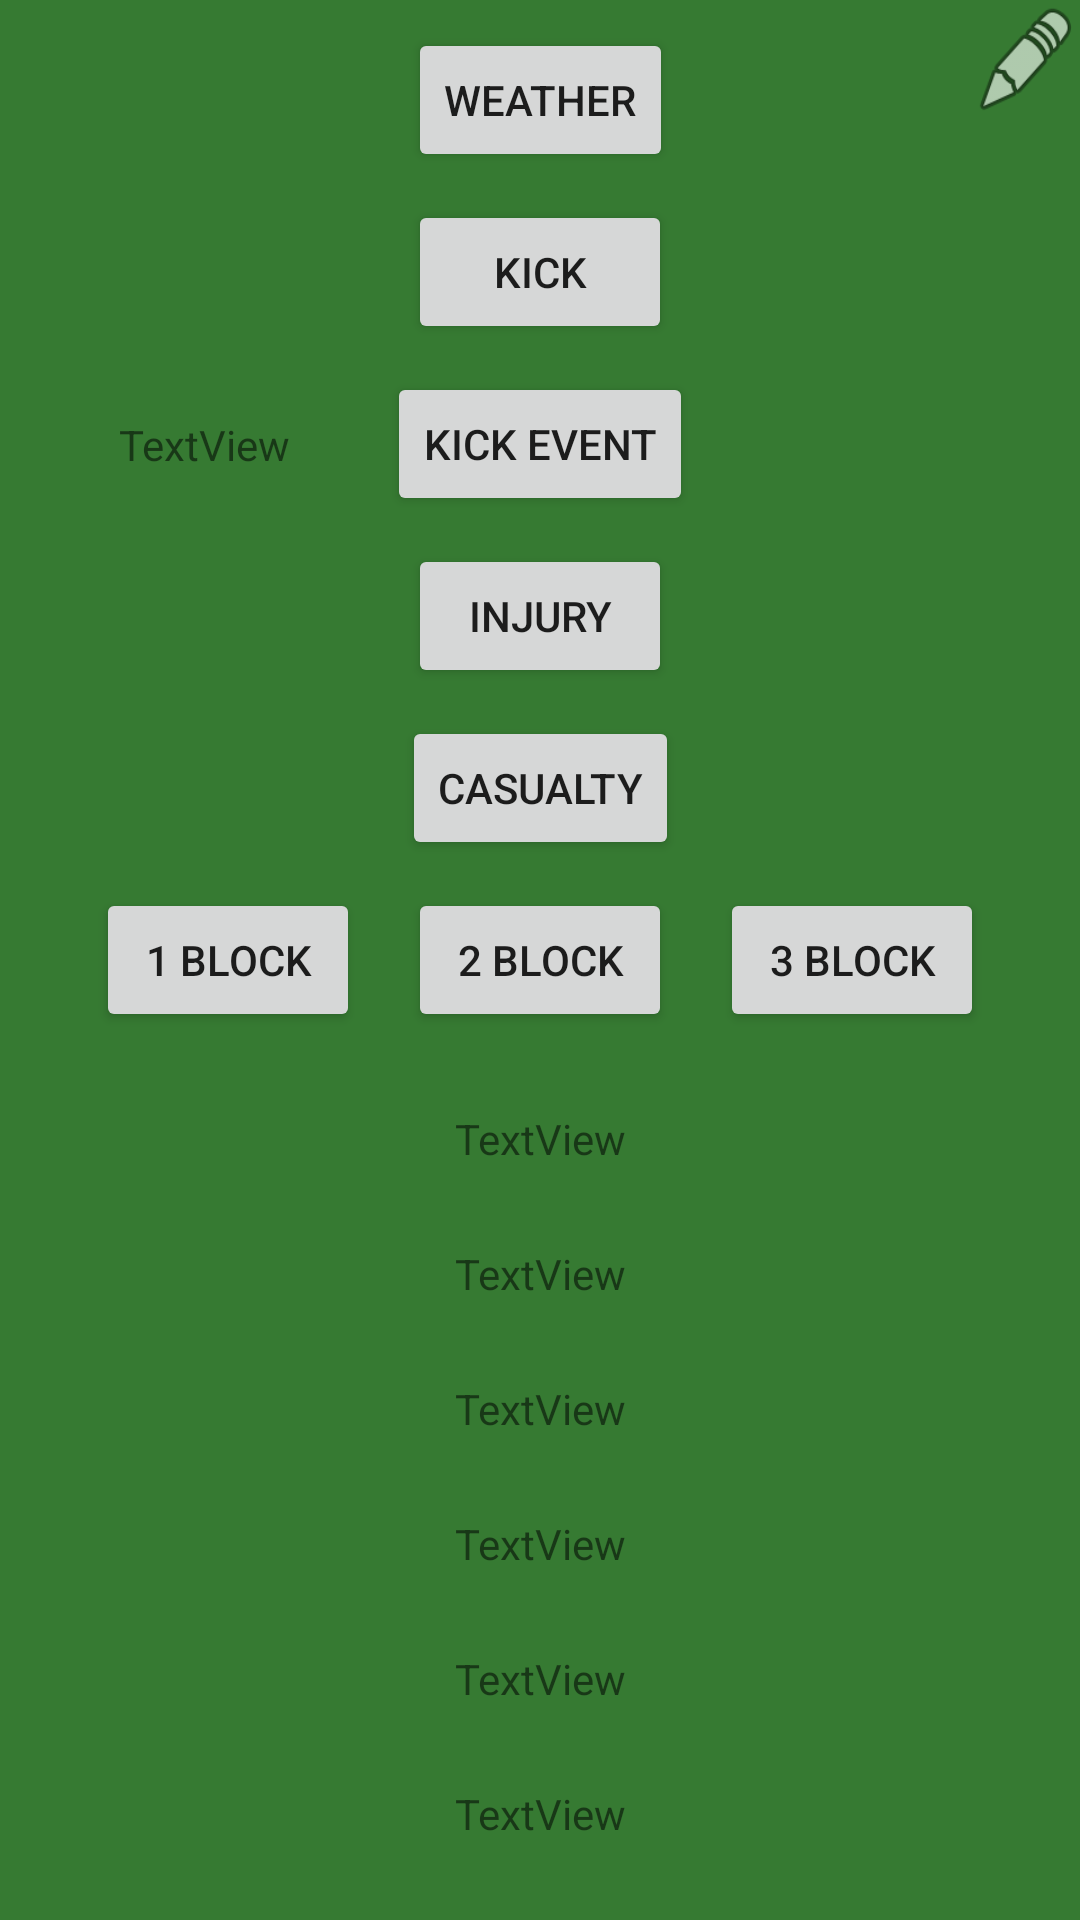

Where to tap for icons on this 1080 × 1920 app screen, as (x,y):
edit: (1025,59)
